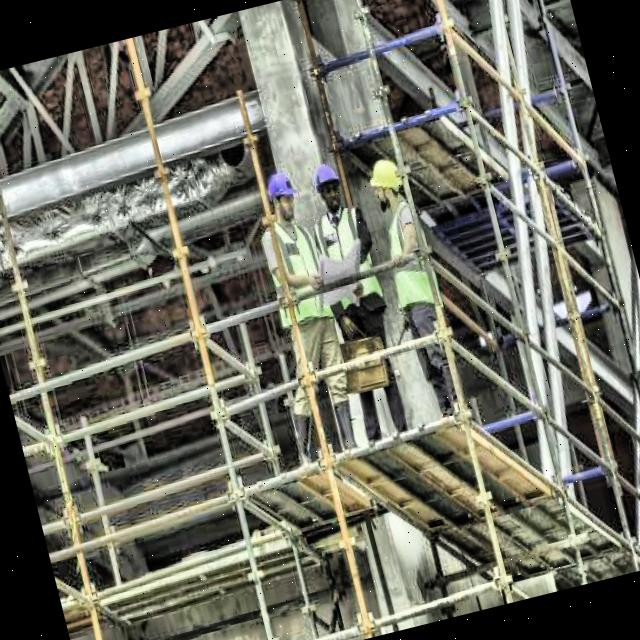helmet: (259, 165, 302, 228), (362, 154, 410, 210), (306, 156, 348, 216)
